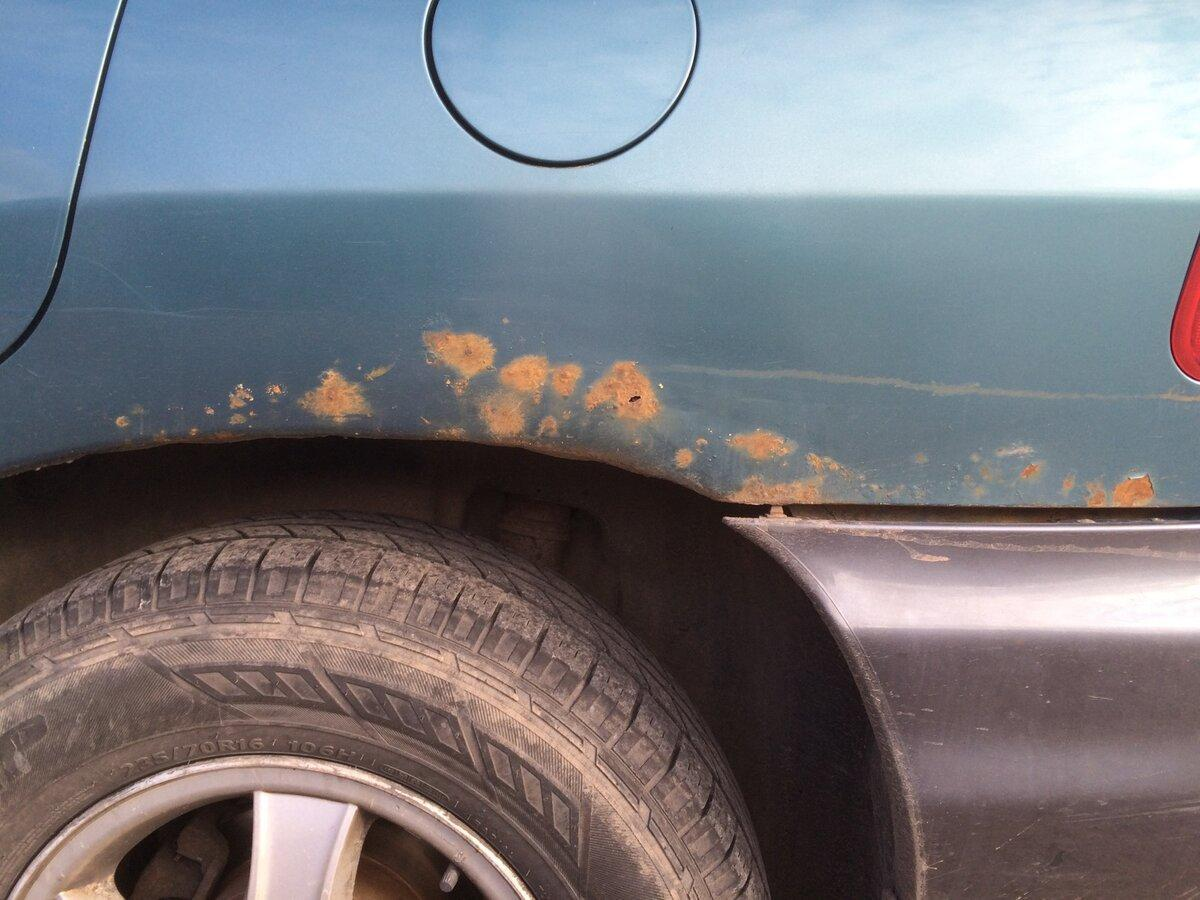corrosion: (75, 309, 1175, 543)
